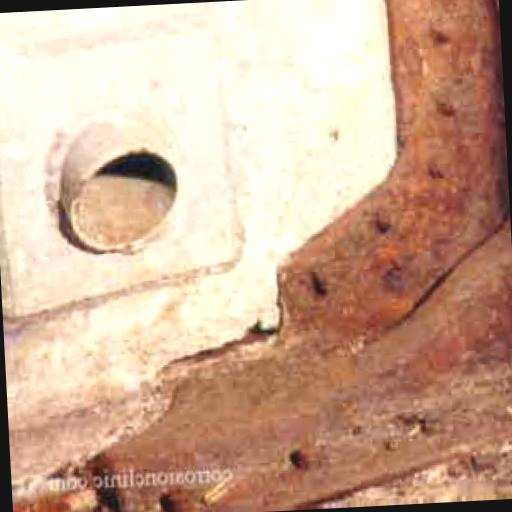segmentation: (84, 0, 512, 512)
